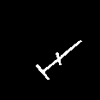double_crochet: (36, 40, 81, 79)
